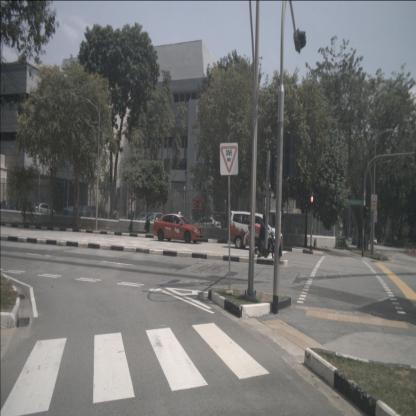cone: (412, 246, 415, 255), (413, 249, 416, 258), (407, 247, 410, 255), (411, 247, 413, 256), (404, 246, 406, 254), (406, 245, 408, 253)
